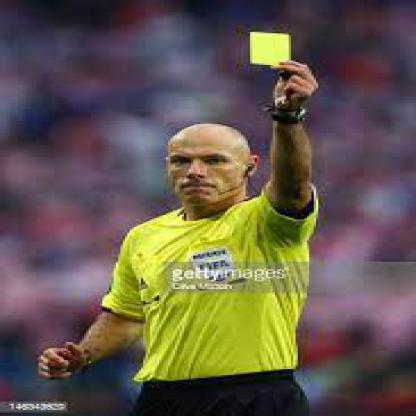foul: (219, 4, 344, 130)
